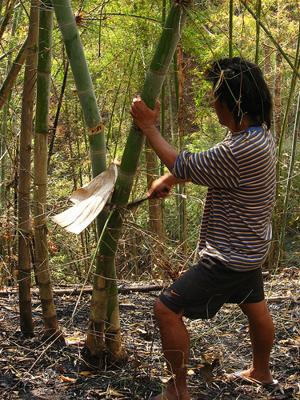person: (129, 56, 278, 400)
